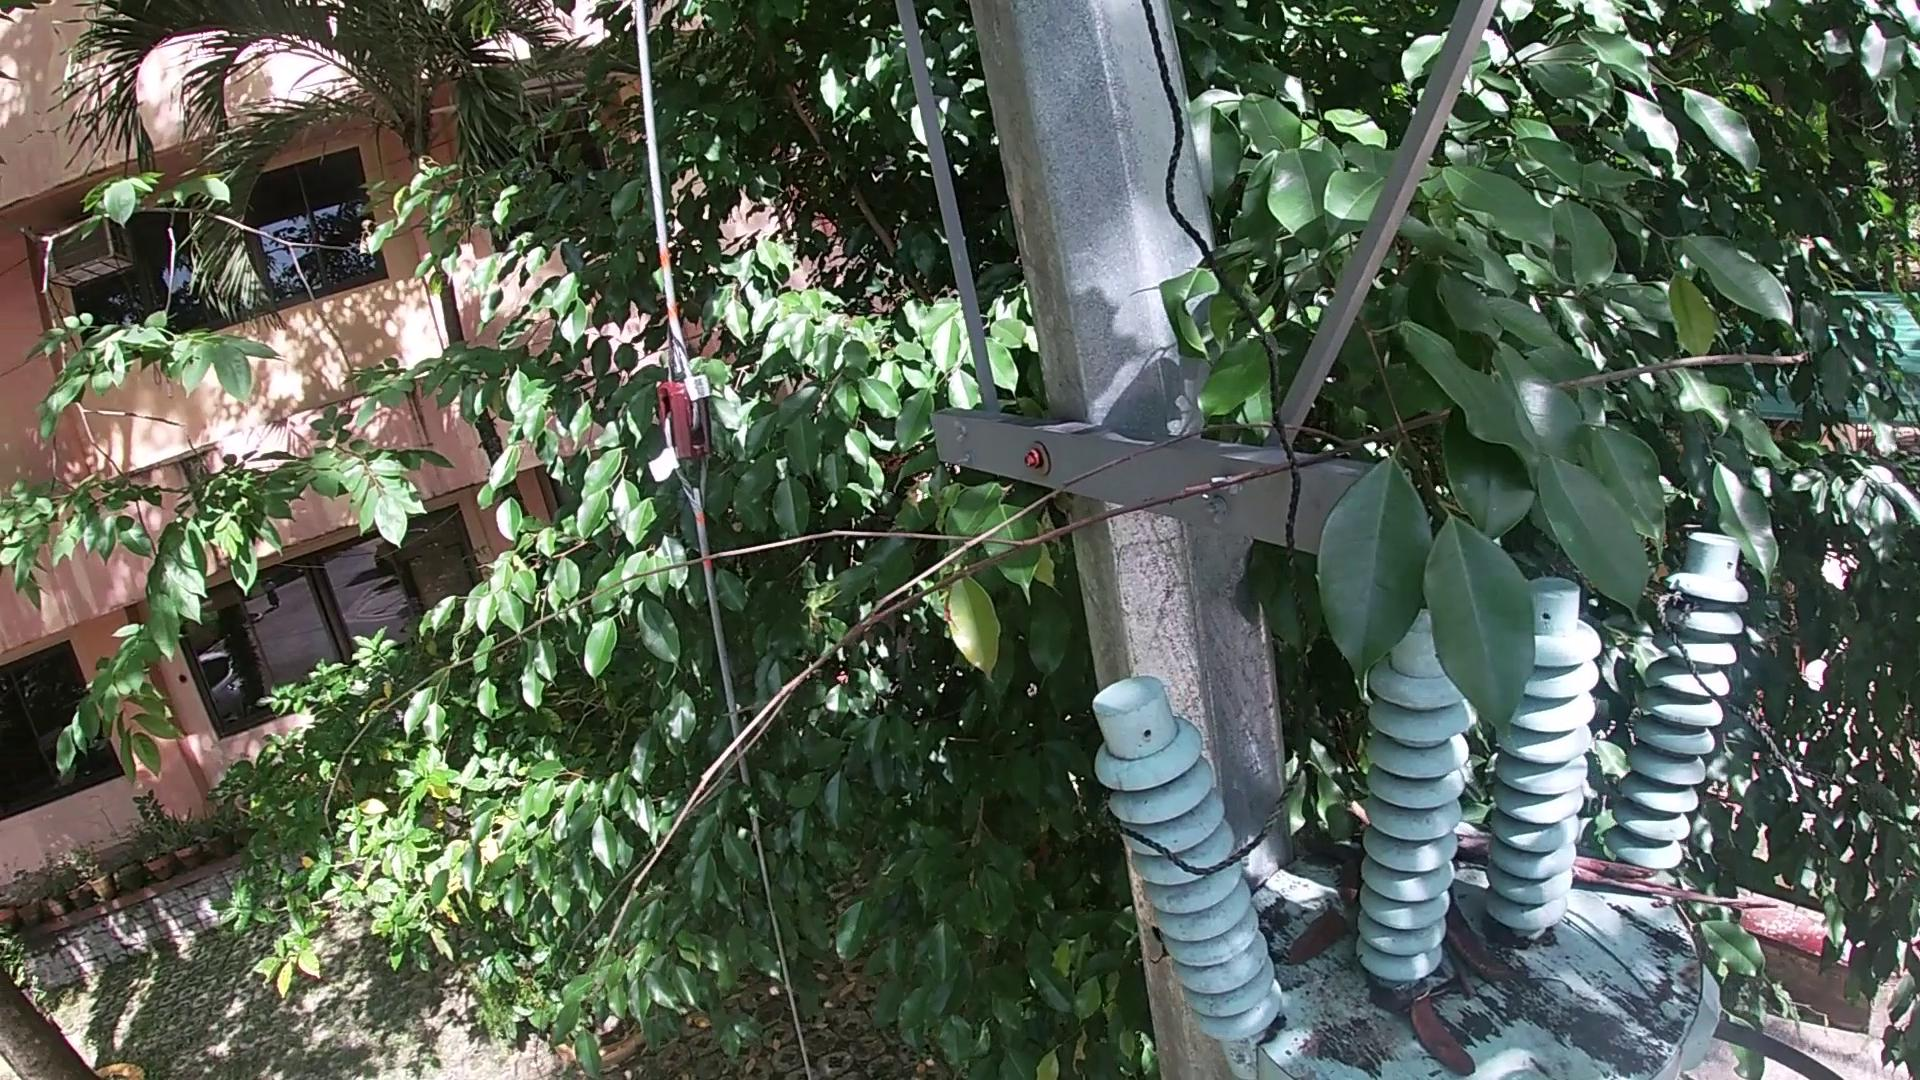leaf: (1278, 906, 1345, 967), (1308, 833, 1345, 878), (1371, 981, 1425, 1006)
mahogany fruit: (1416, 1001, 1484, 1075), (1445, 901, 1501, 978)
tree branch: (276, 335, 1826, 1035), (1577, 848, 1789, 924), (1557, 910, 1679, 1014), (1342, 823, 1371, 907), (1482, 978, 1594, 996), (1445, 939, 1474, 997), (1456, 827, 1501, 864), (1342, 794, 1365, 819)
